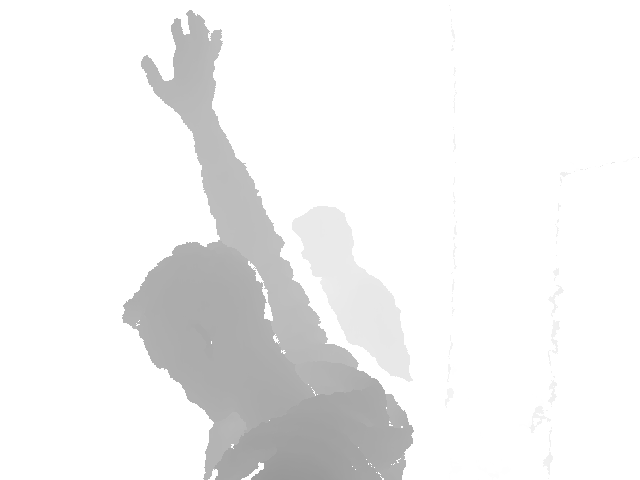hand: (140, 11, 224, 118)
head: (123, 243, 274, 424), (291, 206, 354, 282)
person: (123, 10, 415, 480), (291, 206, 413, 382)
